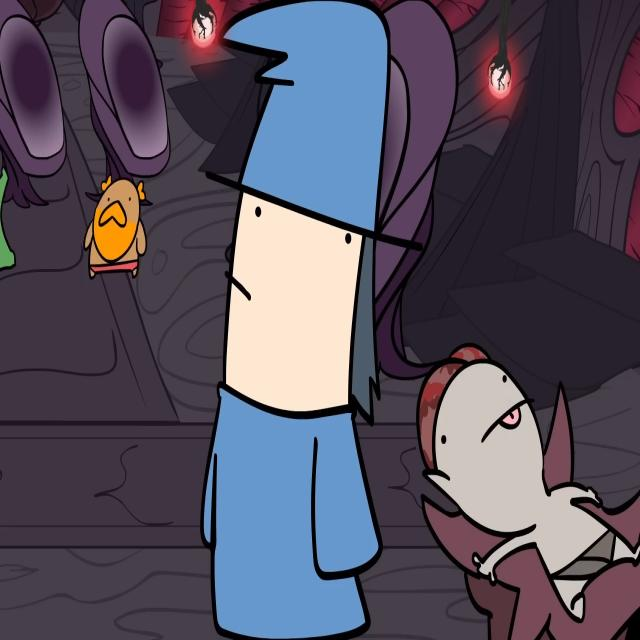Haagen-Daz: (83, 174, 147, 281)
Josh: (199, 0, 426, 640)
